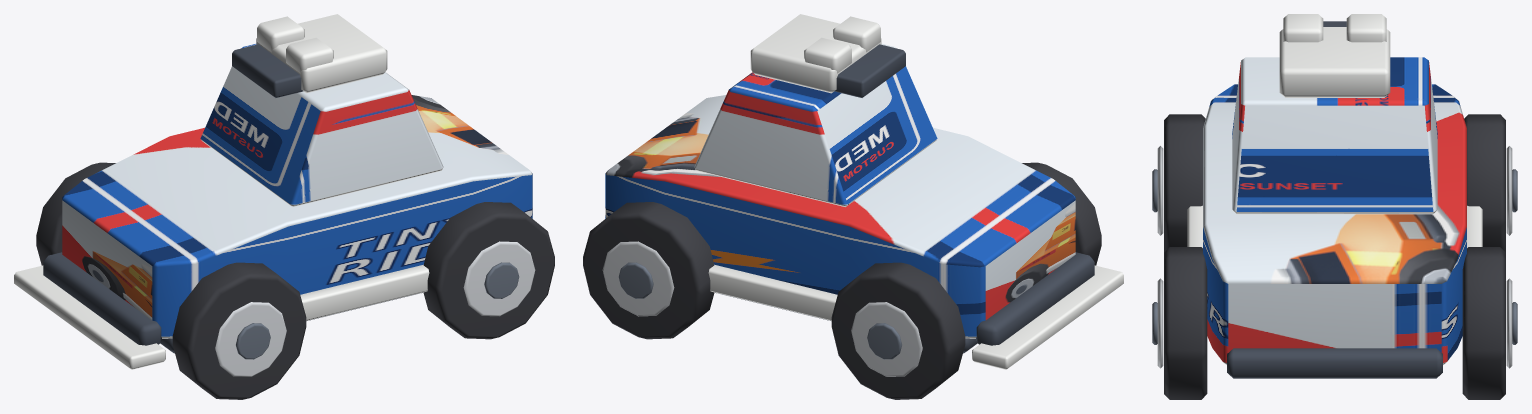
The picture shows the model from 3 angles, left to right: view 1: azimuth 30°, elevation 25°; view 2: azimuth 150°, elevation 25°; view 3: azimuth 270°, elevation 25°; orthographic projection. The views are drawn at different scales.
Parts seen in each view (by area): view 1: RC-02_connected_shell, RC-02_cabin, Tire, Tire.002, custom equipment, custom chin, front bumper, custom side guard, Rim.002, Rim, beacon mount, Tire.001 (+4 smaller); view 2: RC-02_connected_shell, RC-02_cabin, Tire.001, Tire.003, custom equipment, custom chin, front bumper, custom side guard.001, Rim.003, Rim.001, beacon mount, Tire (+4 smaller); view 3: RC-02_connected_shell, RC-02_cabin, custom equipment, rear bumper, Tire.002, Tire.003, Tire, Tire.001, beacon lens, beacon lens.001, custom side guard, custom side guard.001 (+4 smaller).
Boxes of the visible parts, x1,y1,x2,y2 form: RC-02_connected_shell: [62, 95, 532, 338]; RC-02_cabin: [200, 44, 443, 206]; Tire: [172, 262, 306, 399]; Tire.002: [423, 202, 554, 339]; custom equipment: [256, 14, 387, 93]; custom chin: [14, 265, 165, 369]; front bumper: [43, 252, 161, 345]; custom side guard: [300, 264, 429, 320]; Rim.002: [463, 241, 535, 316]; Rim: [215, 302, 286, 376]; beacon mount: [232, 44, 303, 97]; Tire.001: [36, 162, 115, 265]; RC-02_connected_shell: [605, 95, 1075, 338]; RC-02_cabin: [694, 44, 937, 206]; Tire.001: [831, 262, 965, 399]; Tire.003: [583, 202, 714, 339]; custom equipment: [750, 14, 881, 93]; custom chin: [972, 265, 1123, 369]; front bumper: [976, 252, 1094, 345]; custom side guard.001: [708, 264, 837, 320]; Rim.003: [602, 241, 674, 316]; Rim.001: [851, 302, 922, 376]; beacon mount: [834, 44, 905, 97]; Tire: [1022, 162, 1101, 265]; RC-02_connected_shell: [1203, 84, 1466, 364]; RC-02_cabin: [1232, 57, 1437, 214]; custom equipment: [1279, 27, 1390, 97]; rear bumper: [1227, 348, 1442, 378]; Tire.002: [1164, 247, 1207, 399]; Tire.003: [1462, 247, 1505, 399]; Tire: [1164, 114, 1205, 252]; Tire.001: [1464, 114, 1505, 252]; beacon lens: [1283, 14, 1323, 42]; beacon lens.001: [1346, 14, 1386, 42]; custom side guard: [1187, 205, 1202, 247]; custom side guard.001: [1467, 205, 1482, 247].
Size of the model in its own units: 322 by 201 by 219.
